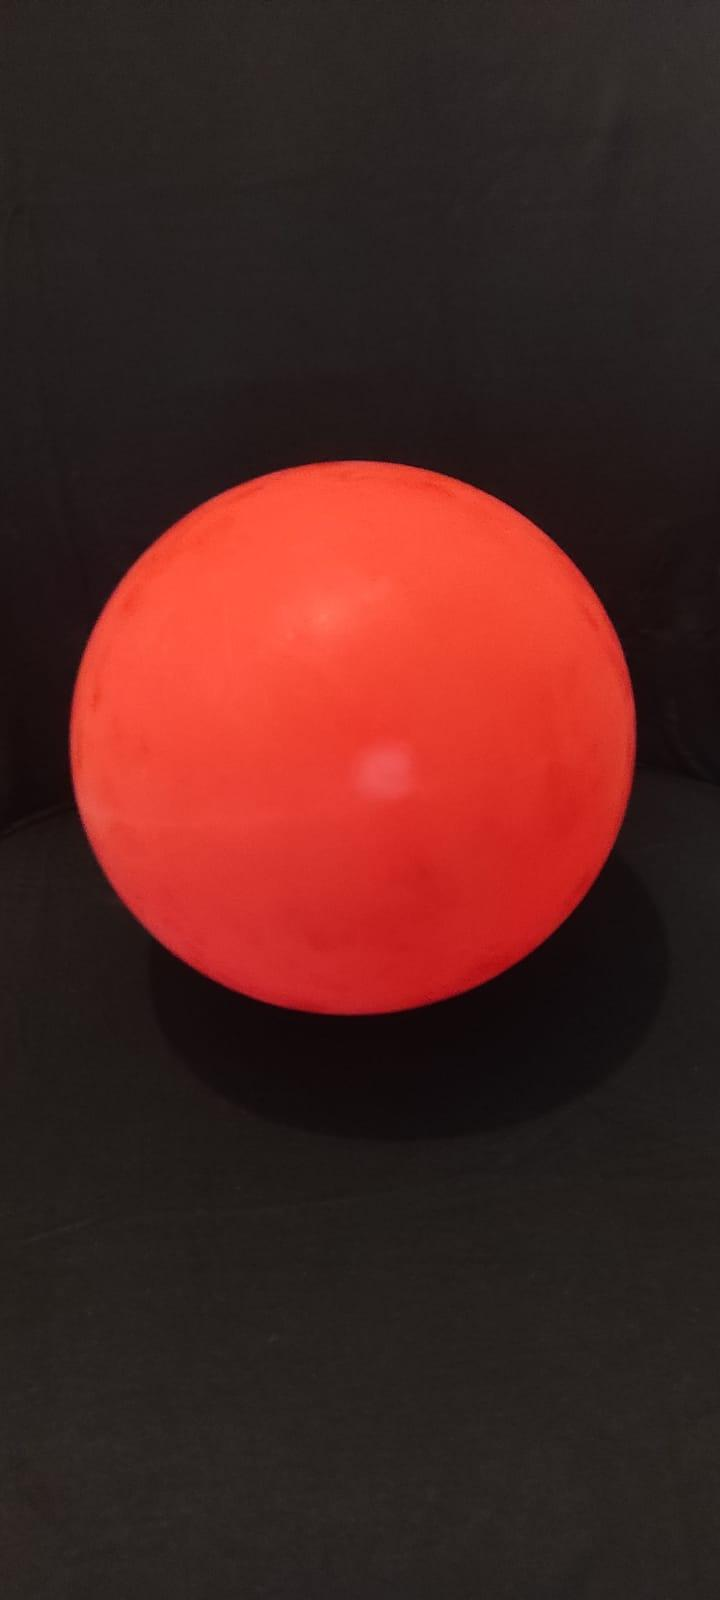red: (67, 447, 642, 1013)
